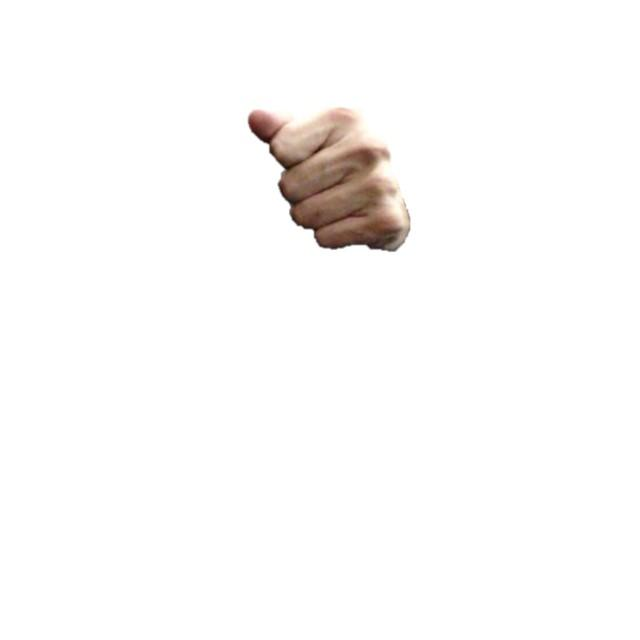gu-: (244, 108, 414, 253)
